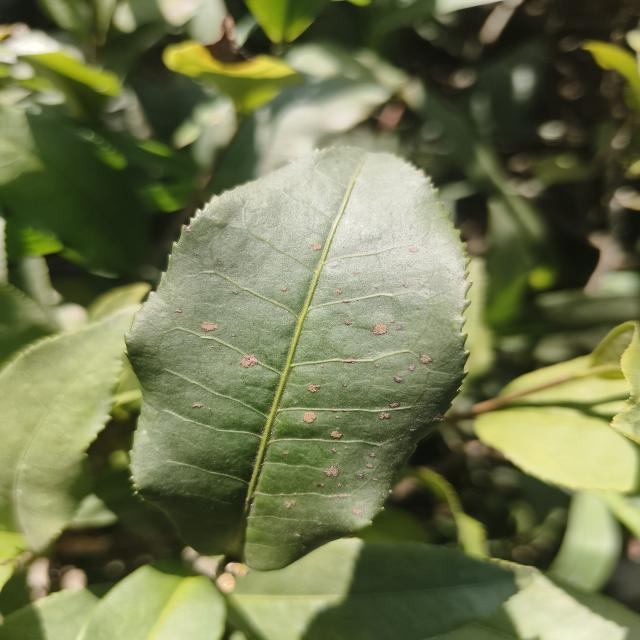Leaf: (127, 148, 467, 571), (0, 306, 134, 551), (228, 538, 516, 640), (0, 108, 148, 274), (474, 375, 640, 493), (163, 15, 301, 113), (77, 561, 226, 640), (469, 44, 539, 138), (499, 356, 589, 398)
